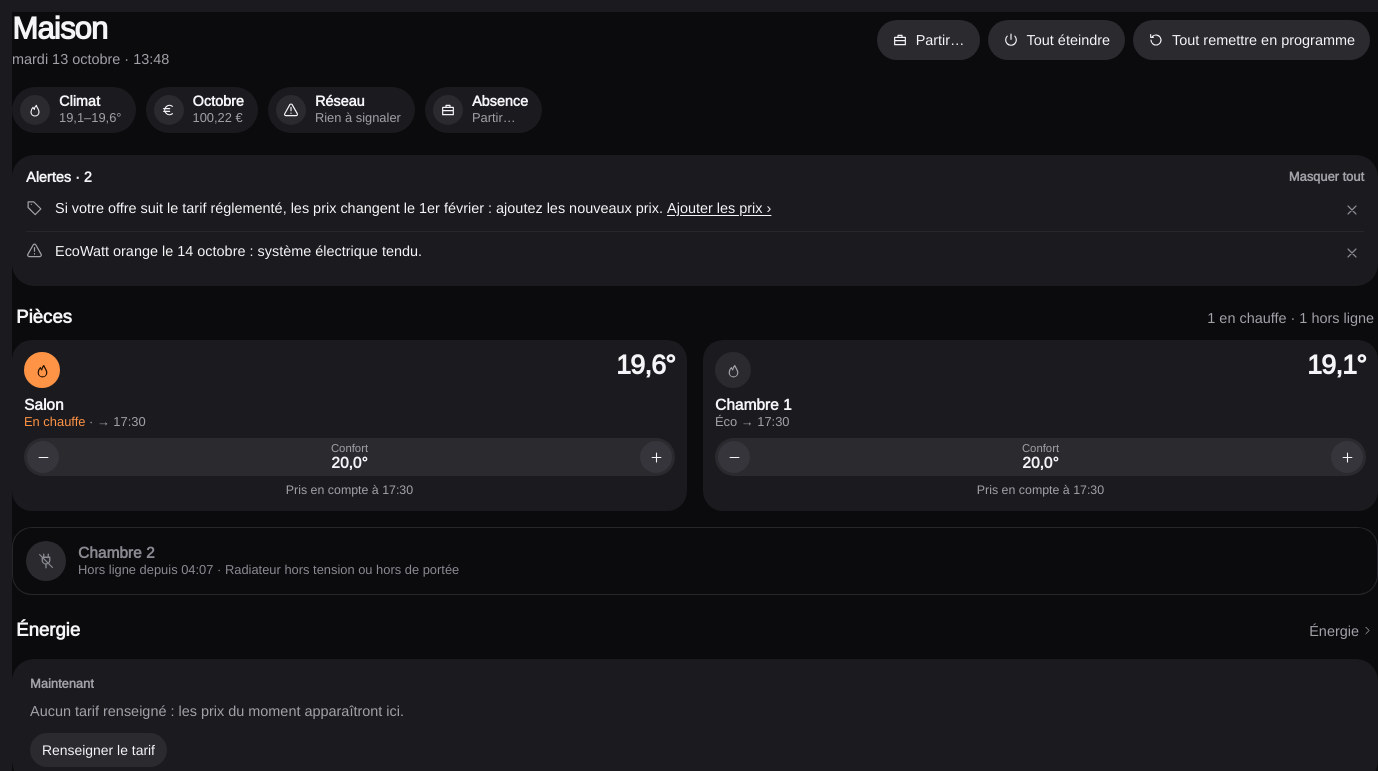
Maison on the phone › a dismissal redraws at once (the owner asked)
The image size is (1378, 771).
Expected: the heading "Alertes · 2" is shown, [26,167,92,187]
Click the button named "Masquer". click: (1352, 210)
box: [1340,198,1364,222]
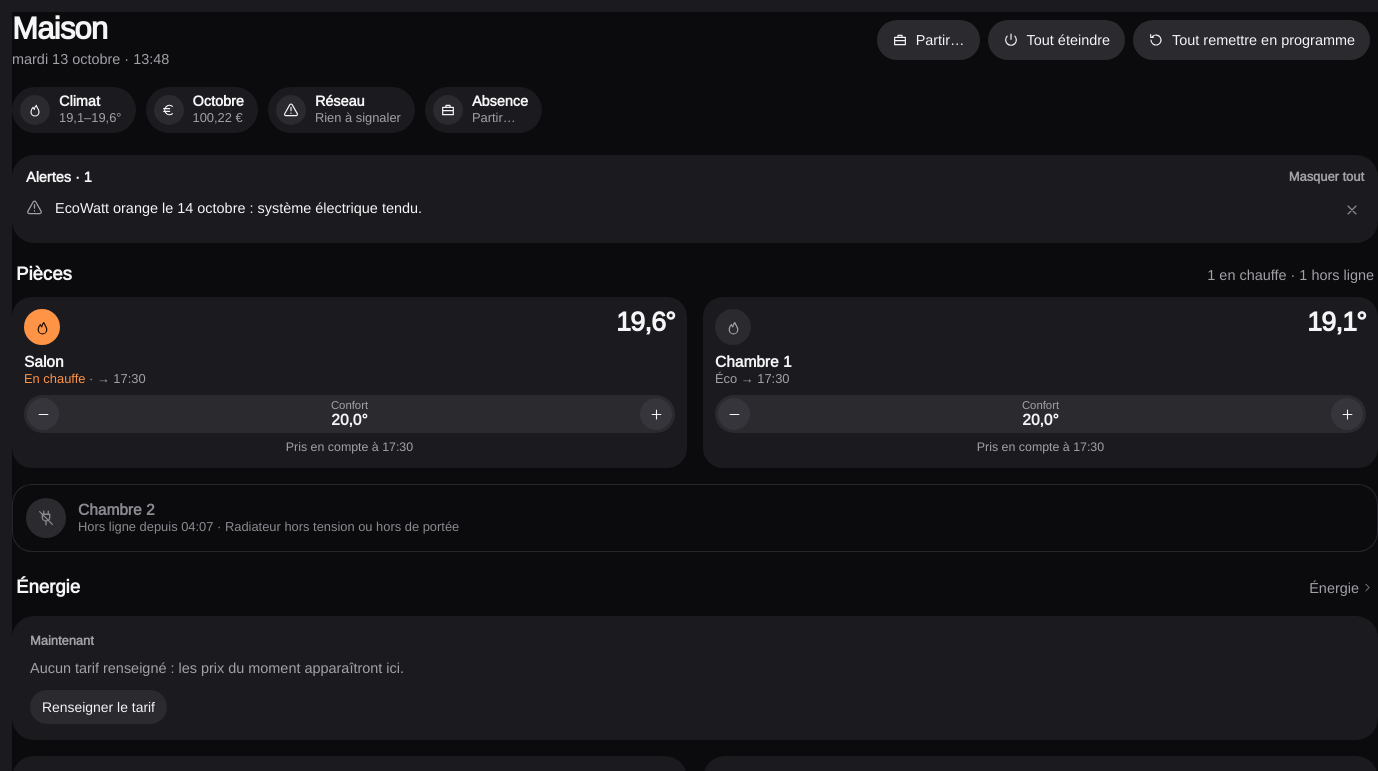
Expected: the heading "Alertes · 1" is shown, [26,167,92,187]
